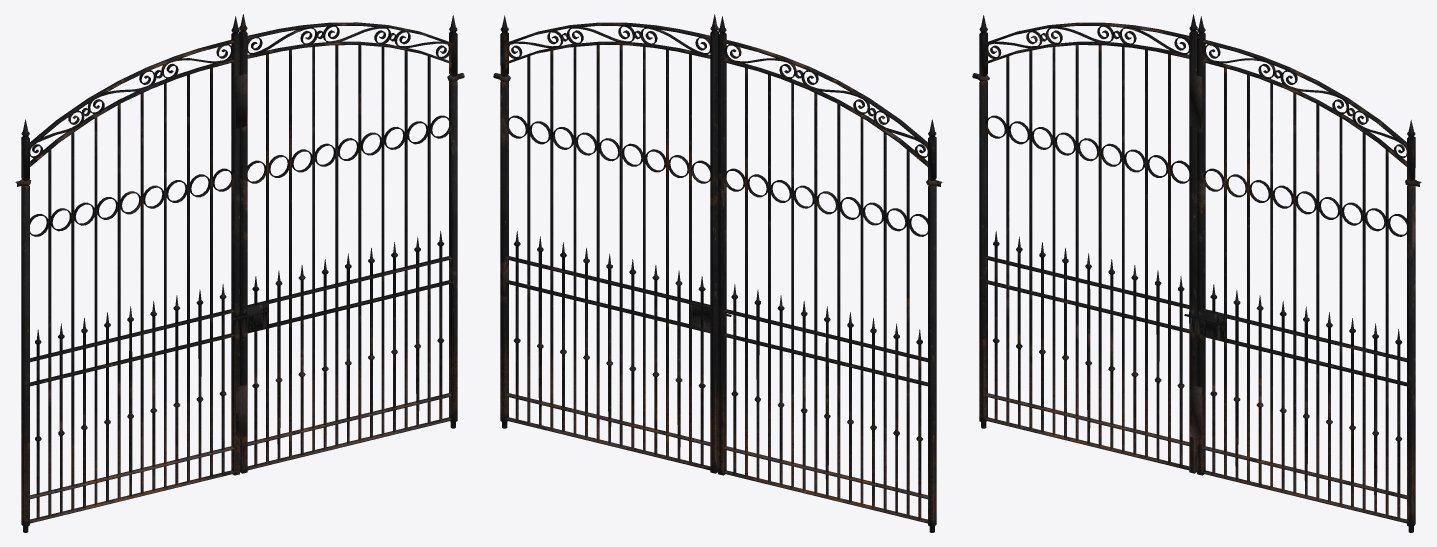
Rendered from large_iron_gate.glb.
3 renders of one model, left to right at view 1: azimuth 30°, elevation 25°; view 2: azimuth 150°, elevation 25°; view 3: azimuth 330°, elevation 25°, orthographic.
Parts seen in each view (by area): view 1: large_iron_gate_right_door, large_iron_gate_left_door; view 2: large_iron_gate_left_door, large_iron_gate_right_door; view 3: large_iron_gate_right_door, large_iron_gate_left_door.
Boxes of the visible parts, x1,y1,x2,y2 form: large_iron_gate_right_door: [235, 14, 457, 473]; large_iron_gate_left_door: [21, 16, 240, 532]; large_iron_gate_left_door: [718, 16, 936, 532]; large_iron_gate_right_door: [500, 14, 718, 473]; large_iron_gate_right_door: [1190, 16, 1415, 532]; large_iron_gate_left_door: [979, 14, 1197, 473].
Size of the model in its own units: 2.95 by 2.93 by 0.0973.
1 material, 1 textured.
